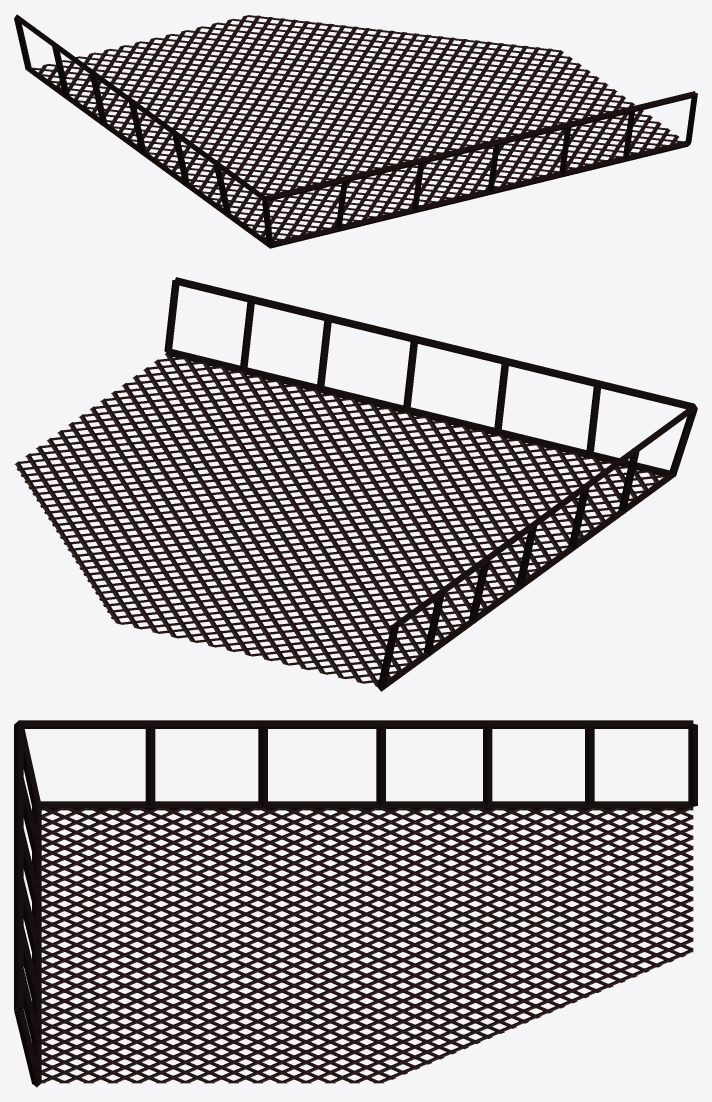
Rendered from Platform_L_Cut2.fbx.
3 renders of one model, top to bottom at view 1: azimuth 30°, elevation 25°; view 2: azimuth 150°, elevation 25°; view 3: azimuth 270°, elevation 25°, orthographic. The views are drawn at different scales.
Visible parts, largest first — view 1: Plat_Lcut2, Plat_Lcut2_Railing; view 2: Plat_Lcut2, Plat_Lcut2_Railing; view 3: Plat_Lcut2, Plat_Lcut2_Railing.
Boxes of the visible parts, box(x1,y1,x2,y2) form: Plat_Lcut2: box(32, 15, 682, 241); Plat_Lcut2_Railing: box(14, 14, 697, 248); Plat_Lcut2: box(14, 353, 665, 686); Plat_Lcut2_Railing: box(164, 277, 697, 691); Plat_Lcut2: box(40, 808, 693, 1083); Plat_Lcut2_Railing: box(14, 720, 697, 1087).
Bounding box in the file's own units: 106 × 14.08 × 106.
Materials: 2 (1 with a texture image).
